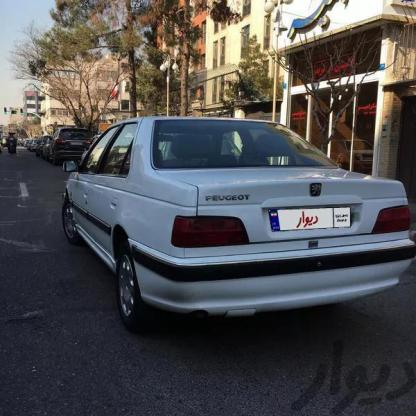Car: (66, 120, 416, 321), (53, 127, 91, 174), (29, 137, 52, 150)
